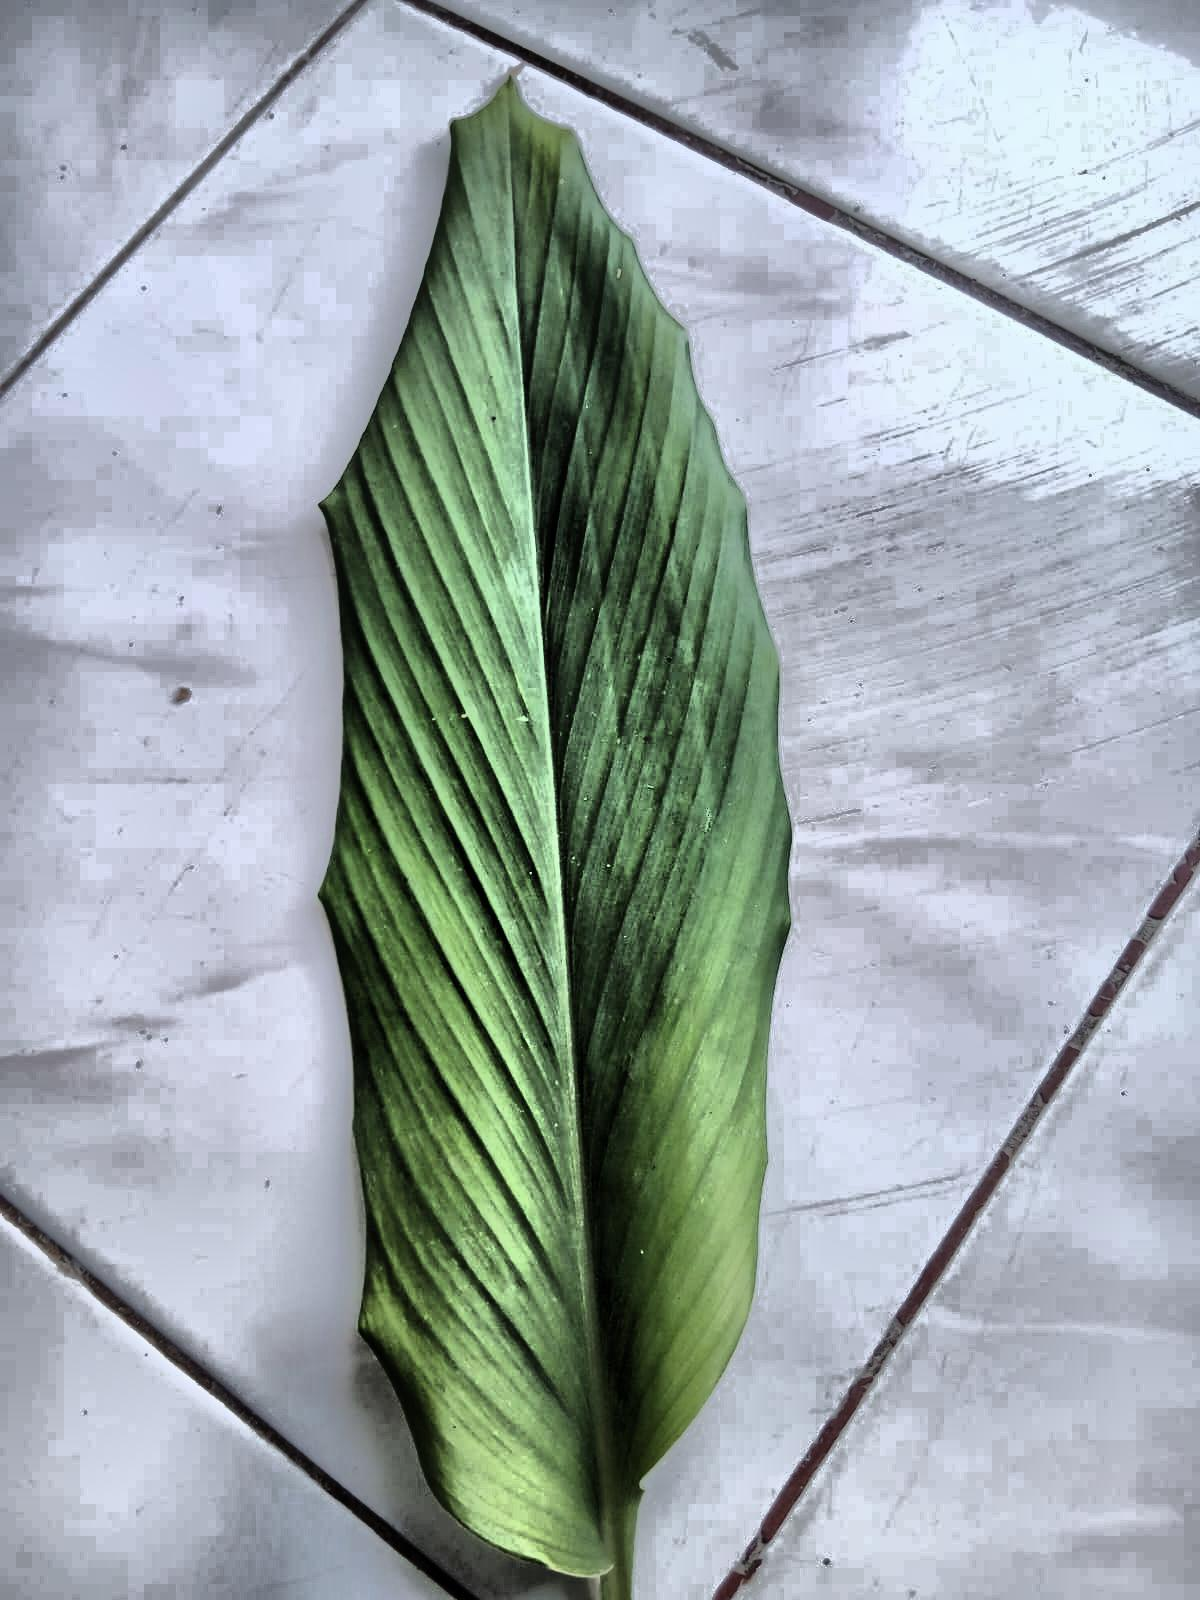daun kunyit: (320, 81, 789, 1599)
